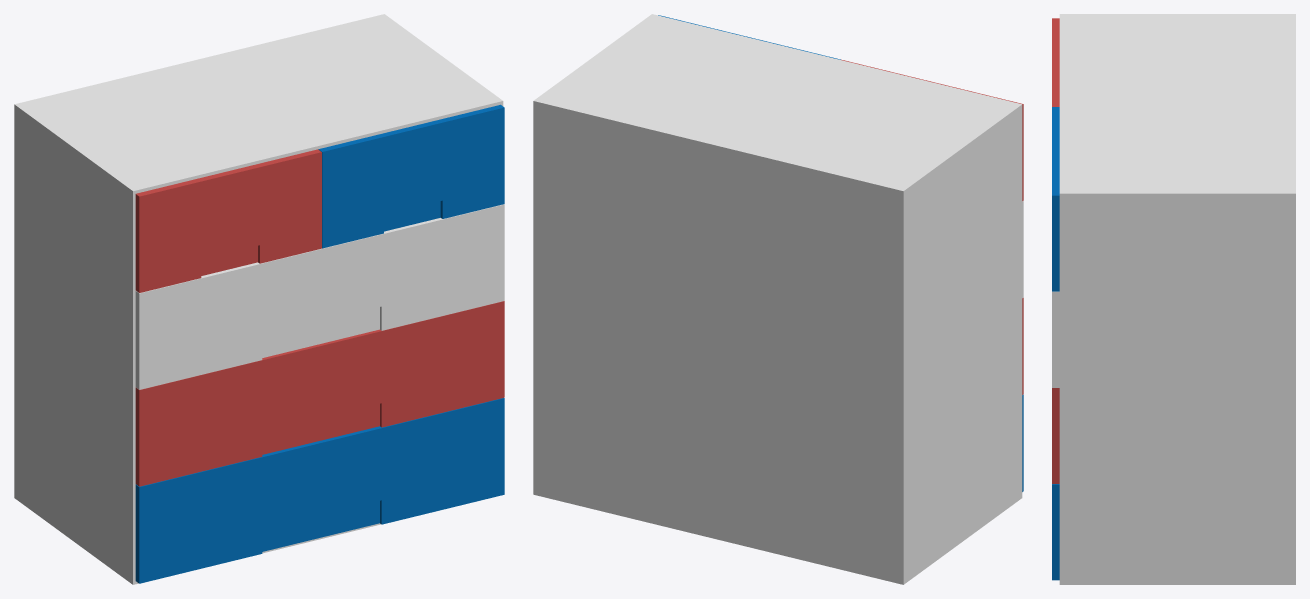
The model's file is Drawer29.fbx.
The picture shows the model from 3 angles, left to right: view 1: azimuth 30°, elevation 25°; view 2: azimuth 150°, elevation 25°; view 3: azimuth 270°, elevation 25°; orthographic projection.
Parts seen in each view (by area): view 1: Drawer29_Body, Drawer29_5, Drawer29_3, Drawer29_4, Drawer29_1, Drawer29_2; view 2: Drawer29_Body; view 3: Drawer29_Body, Drawer29_2, Drawer29_3, Drawer29_5, Drawer29_4, Drawer29_1.
Part boxes in pixels (x1=…): Drawer29_Body: x1=14, y1=14, x2=503, y2=584; Drawer29_5: x1=135, y1=398, x2=504, y2=583; Drawer29_3: x1=135, y1=204, x2=504, y2=389; Drawer29_4: x1=135, y1=301, x2=504, y2=486; Drawer29_1: x1=135, y1=149, x2=321, y2=292; Drawer29_2: x1=318, y1=104, x2=504, y2=248; Drawer29_Body: x1=533, y1=14, x2=1022, y2=584; Drawer29_Body: x1=1059, y1=14, x2=1295, y2=584; Drawer29_2: x1=1052, y1=107, x2=1059, y2=291; Drawer29_3: x1=1052, y1=291, x2=1059, y2=387; Drawer29_5: x1=1052, y1=484, x2=1059, y2=580; Drawer29_4: x1=1052, y1=388, x2=1059, y2=483; Drawer29_1: x1=1052, y1=18, x2=1059, y2=106.
Bounding box in the file's own units: 77.76 × 79.02 × 44.59.
